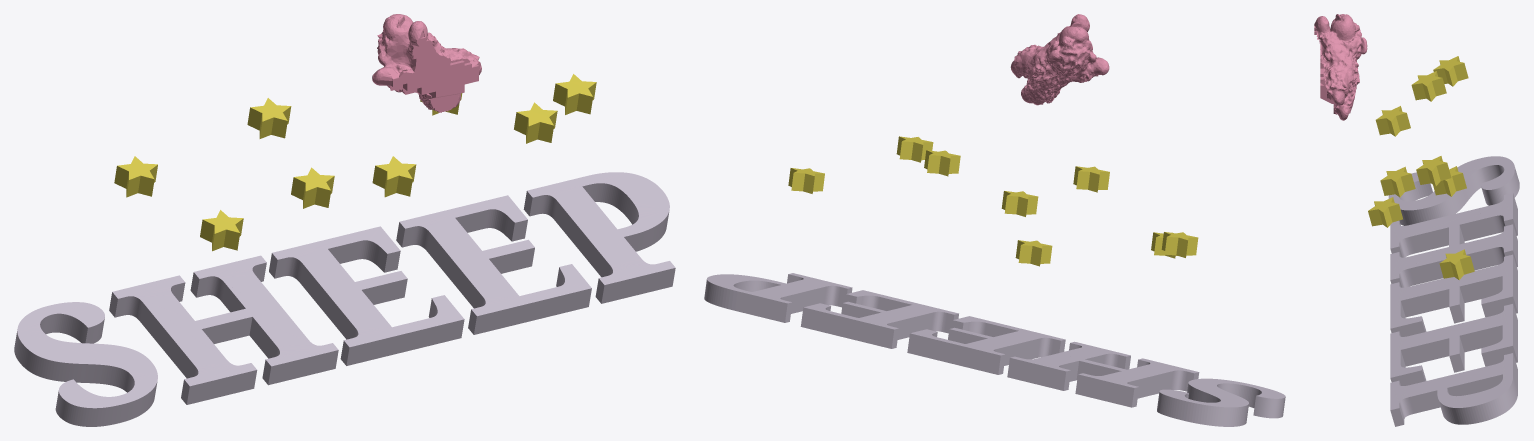
The model's file is sheep_tinkercad.glb.
The picture shows the model from 3 angles, left to right: view 1: azimuth 30°, elevation 25°; view 2: azimuth 150°, elevation 25°; view 3: azimuth 270°, elevation 25°; orthographic projection. The views are drawn at different scales.
Parts seen in each view (by area): view 1: Mesh_Mesh_head_geo.001_lambert2SG.001; view 2: Mesh_Mesh_head_geo.001_lambert2SG.001; view 3: Mesh_Mesh_head_geo.001_lambert2SG.001.
Part boxes in pixels (x1=…): Mesh_Mesh_head_geo.001_lambert2SG.001: x1=14, y1=14, x2=675, y2=426; Mesh_Mesh_head_geo.001_lambert2SG.001: x1=704, y1=14, x2=1285, y2=426; Mesh_Mesh_head_geo.001_lambert2SG.001: x1=1314, y1=14, x2=1519, y2=426.
Bounding box in the file's own units: 91.4 × 50.67 × 32.04.
